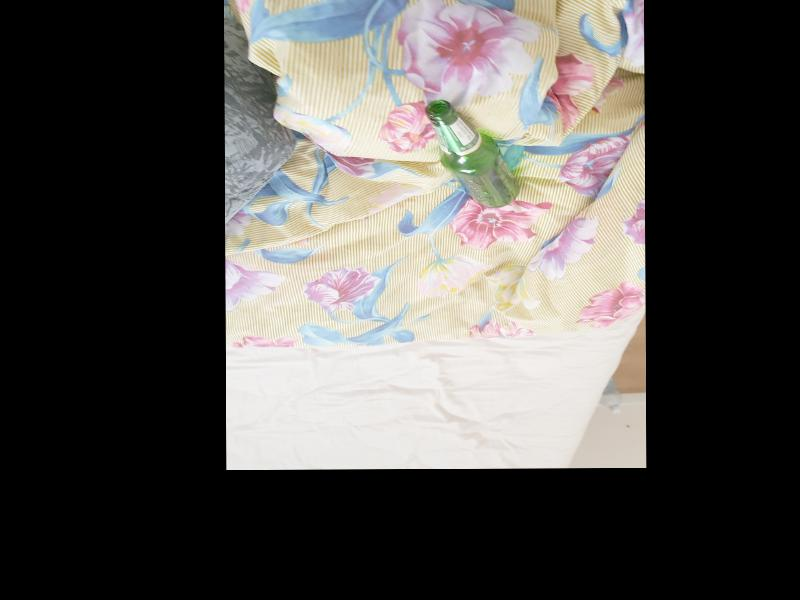Beer: (427, 98, 519, 207)
